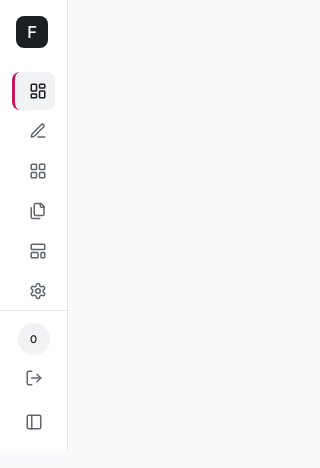
Test: SideNav width › starts collapsed on a narrow screen, and can still be expanded
The width and height of the screenshot is (320, 468).
Expected: the text "Dashboard" is not shown
Expected: the link named "Dashboard" is shown, [12,72,55,110]
Click the button named "Expand sidebar" at (34, 422), box [12,405,55,439]
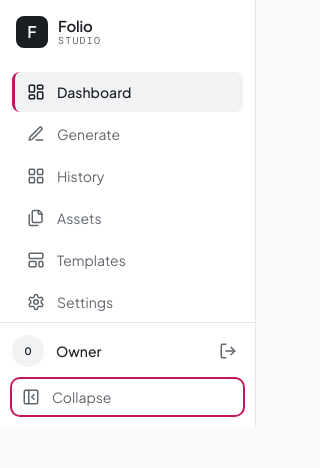
Expected: the text "Dashboard" is shown, [57,82,132,102]
